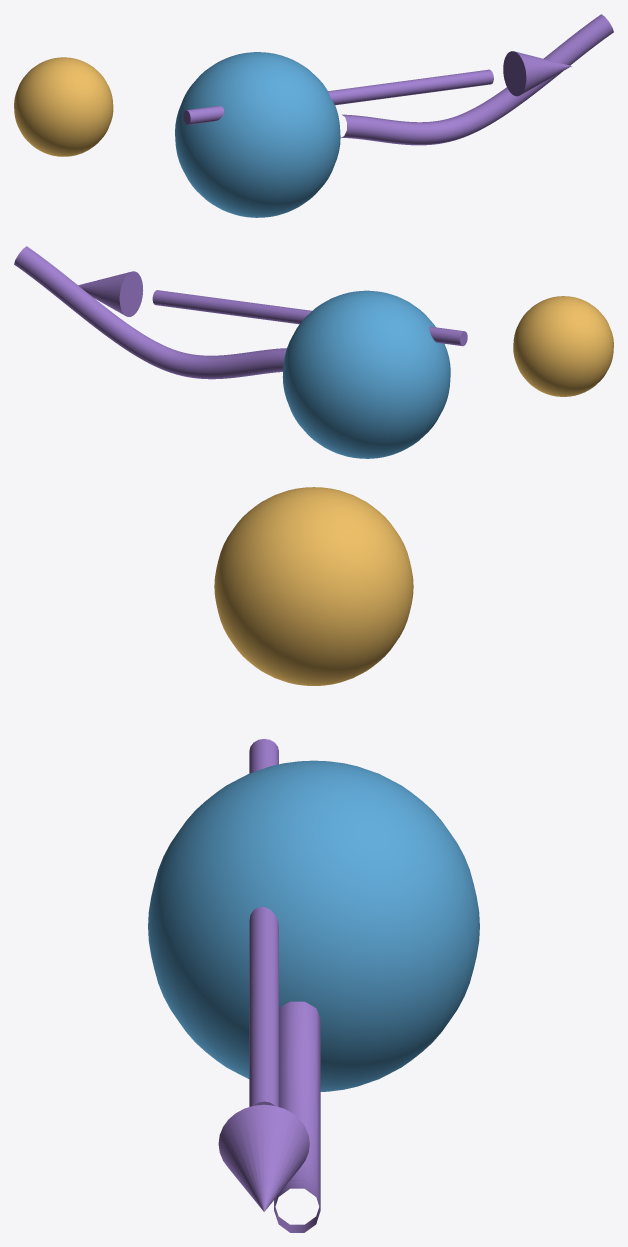
Rendered from biology-neuroscience-senses-signals.glb.
3 renders of one model, top to bottom at view 1: azimuth 30°, elevation 25°; view 2: azimuth 150°, elevation 25°; view 3: azimuth 270°, elevation 25°, orthographic. The views are drawn at different scales.
Parts seen in each view (by area): view 1: sensory-receptor, stimulus-light-sound-pressure, nerve-signal-to-brain, coded-signal-flow-shaft, coded-signal-flow-head; view 2: sensory-receptor, stimulus-light-sound-pressure, nerve-signal-to-brain, coded-signal-flow-shaft, coded-signal-flow-head; view 3: sensory-receptor, stimulus-light-sound-pressure, coded-signal-flow-shaft, nerve-signal-to-brain, coded-signal-flow-head.
Part boxes in pixels (x1,y1,x2,y2): sensory-receptor: (175, 52, 340, 217); stimulus-light-sound-pressure: (14, 57, 113, 156); nerve-signal-to-brain: (341, 14, 613, 145); coded-signal-flow-shaft: (183, 69, 493, 124); coded-signal-flow-head: (503, 51, 571, 96); sensory-receptor: (282, 290, 450, 458); stimulus-light-sound-pressure: (513, 296, 613, 396); nerve-signal-to-brain: (14, 246, 286, 379); coded-signal-flow-shaft: (152, 290, 467, 346); coded-signal-flow-head: (78, 271, 143, 316); sensory-receptor: (148, 760, 479, 1091); stimulus-light-sound-pressure: (214, 487, 413, 685); coded-signal-flow-shaft: (249, 739, 278, 1106); nerve-signal-to-brain: (274, 1001, 320, 1232); coded-signal-flow-head: (218, 1104, 309, 1211).
Size of what is drawn, in the model's own units: 1.63 by 0.52 by 0.4.
